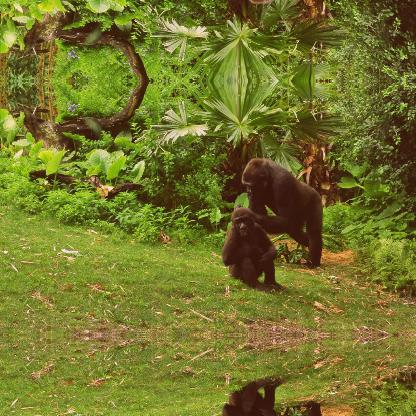Monkey: (221, 206, 277, 284), (221, 384, 278, 415)
